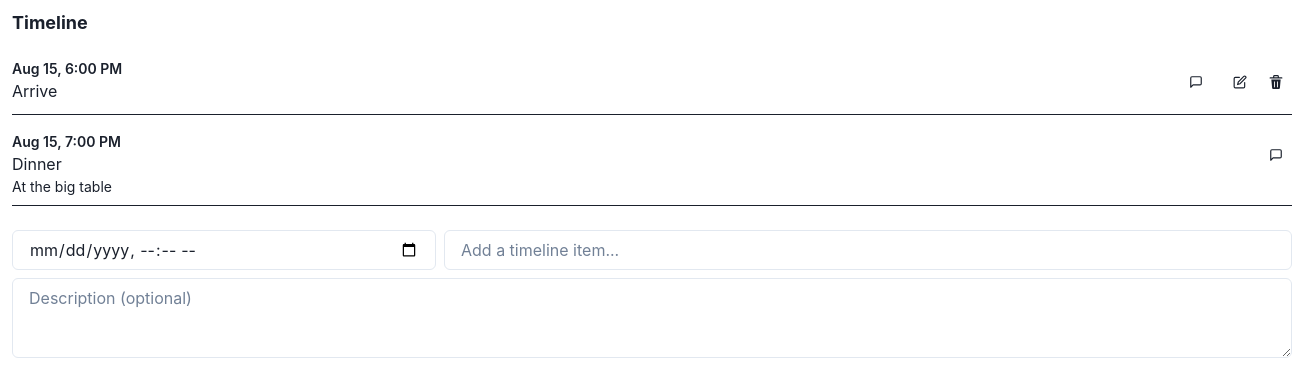
it: EventTimeline Component › deletes an item and removes it from the list
Expected: the text "Arrive" is shown, [12, 81, 57, 101]
Click the button named "Delete item": (1276, 82) [1260, 58, 1292, 106]
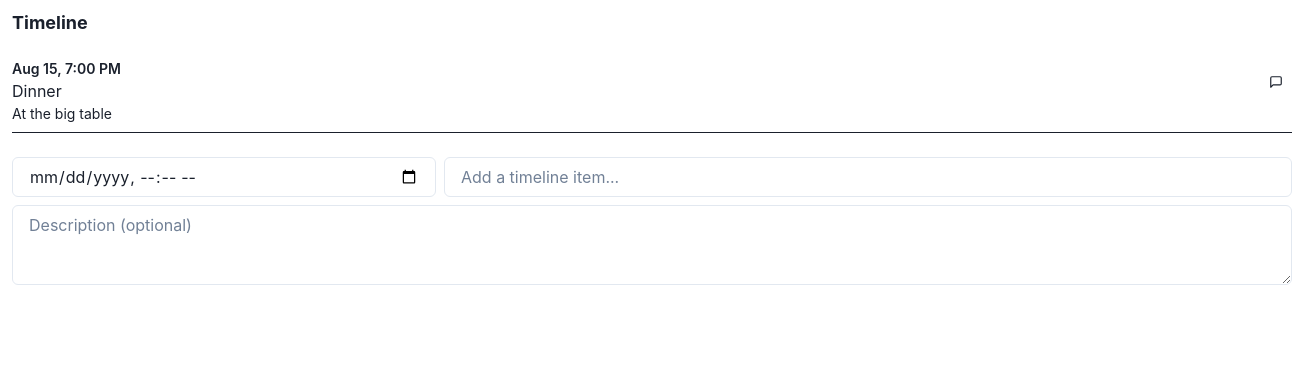
Expected: the text "Arrive" is gone
